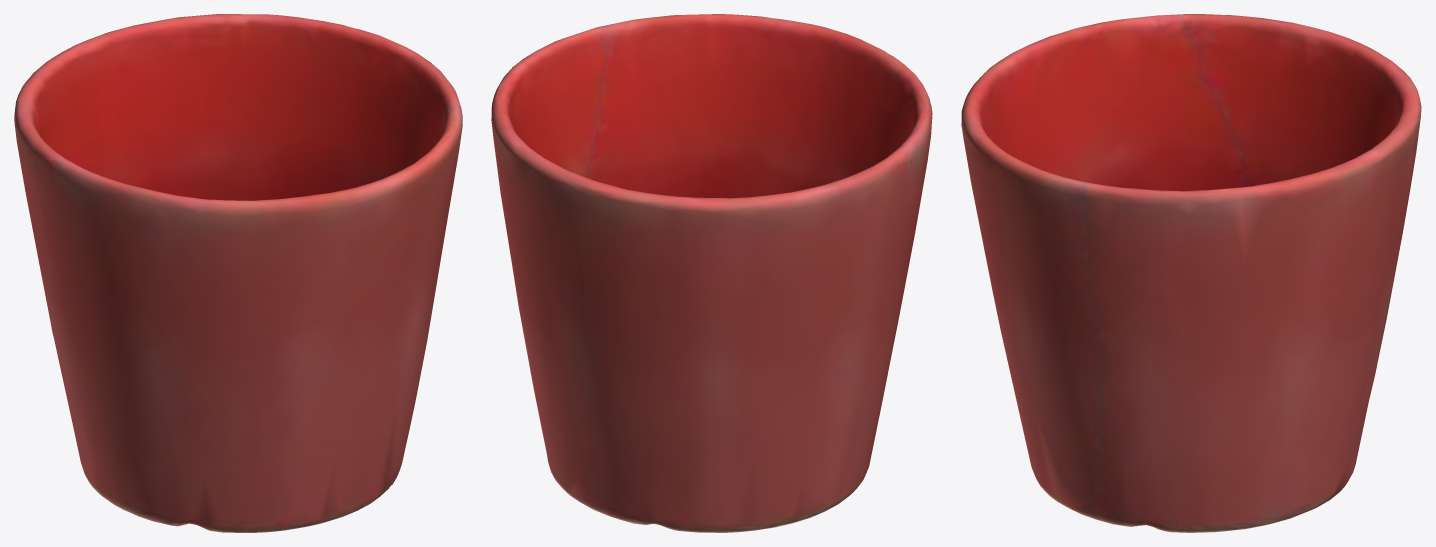
File: Sapota_Threshold_4_Ceramic_Round_Planter_Red-high.glb
The picture shows the model from 3 angles, left to right: view 1: azimuth 30°, elevation 25°; view 2: azimuth 150°, elevation 25°; view 3: azimuth 270°, elevation 25°; orthographic projection.
Parts seen in each view (by area): view 1: Sapota_Threshold_4_Ceramic_Round_Planter_Red; view 2: Sapota_Threshold_4_Ceramic_Round_Planter_Red; view 3: Sapota_Threshold_4_Ceramic_Round_Planter_Red.
Part boxes in pixels (x1,y1,x2,y2): Sapota_Threshold_4_Ceramic_Round_Planter_Red: (14, 14, 462, 532); Sapota_Threshold_4_Ceramic_Round_Planter_Red: (491, 14, 932, 532); Sapota_Threshold_4_Ceramic_Round_Planter_Red: (961, 14, 1421, 532).
Bounding box in the file's own units: 0.1059 × 0.0971 × 0.1095.
Materials: 1 (1 with a texture image).
